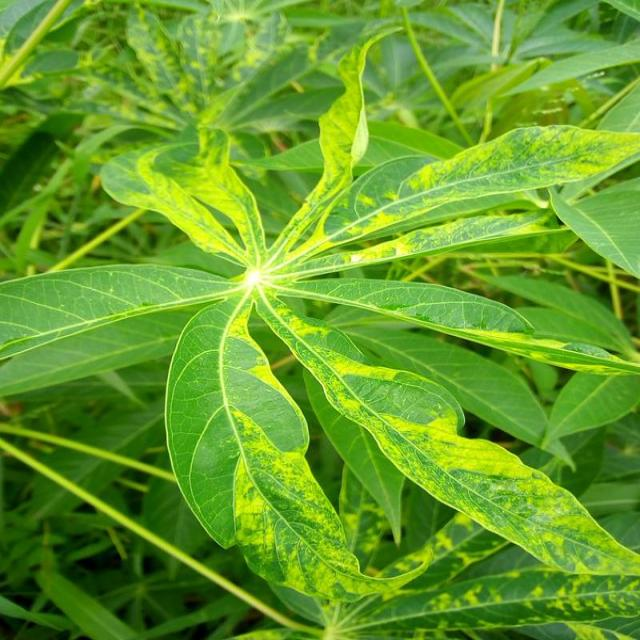Mosaico: (143, 77, 640, 610), (65, 0, 363, 158)
